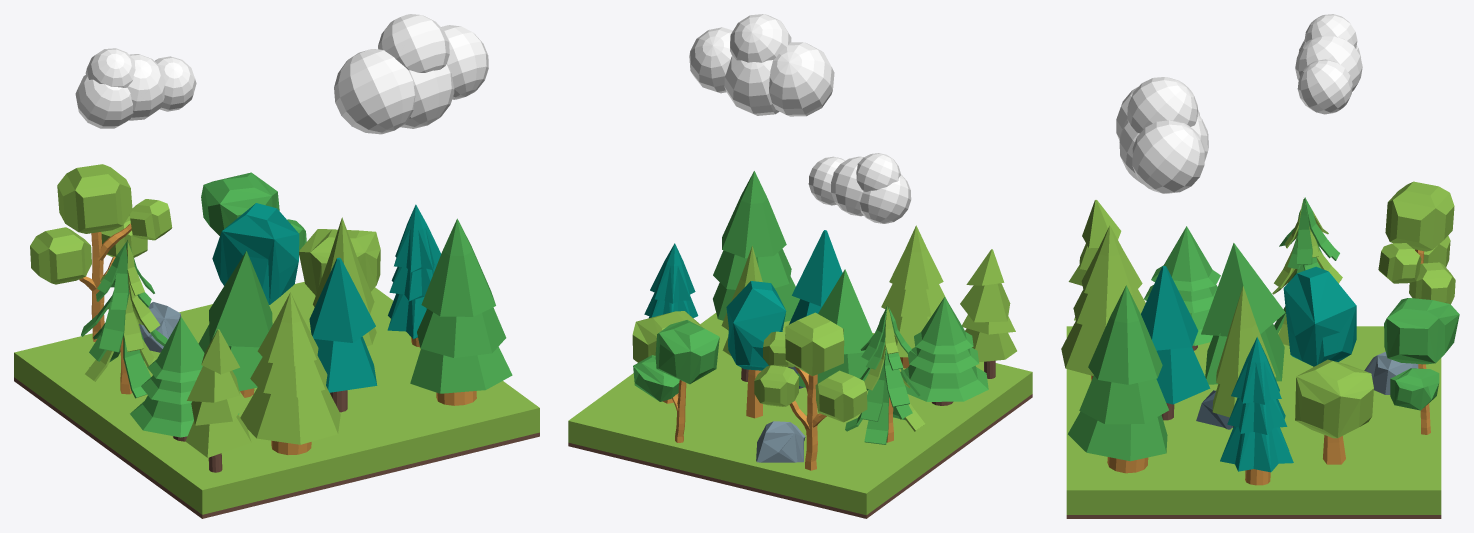
The model's file is arboles.gltf.
3 renders of one model, left to right at view 1: azimuth 30°, elevation 25°; view 2: azimuth 150°, elevation 25°; view 3: azimuth 270°, elevation 25°, orthographic. The views are drawn at different scales.
Parts seen in each view (by area): view 1: group833803046, group1795976569, group720331588, group373735999, group1958235271, group601634601, group874600975, group2112331936, group1206298165, group1610579876, group546125134, group2102696020 (+5 smaller); view 2: group833803046, group1795976569, group373735999, group720331588, group2102696020, group601634601, group874600975, group1114869579, group1206298165, group1958235271, group1610579876, group546125134 (+5 smaller); view 3: group833803046, group720331588, group1795976569, group373735999, group1114869579, group100681590, group1206298165, group1932686607, group1958235271, group2112331936, group601634601, group546125134 (+6 smaller).
Part boxes in pixels (x1,y1,x2,y2): group833803046: (14, 281, 539, 518); group1795976569: (334, 14, 488, 134); group720331588: (410, 218, 512, 405); group373735999: (30, 164, 172, 341); group1958235271: (240, 292, 340, 454); group601634601: (75, 48, 196, 128); group874600975: (81, 240, 167, 398); group2112331936: (309, 257, 377, 412); group1206298165: (212, 203, 299, 304); group1610579876: (185, 329, 251, 472); group546125134: (198, 251, 272, 397); group2102696020: (130, 317, 238, 441); group833803046: (568, 313, 1032, 518); group1795976569: (689, 14, 834, 116); group373735999: (754, 312, 867, 470); group720331588: (713, 171, 799, 321); group2102696020: (900, 297, 988, 405); group601634601: (808, 153, 911, 223); group874600975: (845, 306, 925, 444); group1114869579: (633, 320, 719, 442); group1206298165: (726, 281, 786, 418); group1958235271: (881, 225, 946, 368); group1610579876: (960, 249, 1016, 378); group546125134: (797, 269, 872, 387); group833803046: (1066, 326, 1441, 518); group720331588: (1068, 285, 1168, 473); group1795976569: (1116, 77, 1208, 193); group373735999: (1378, 181, 1455, 304); group1114869579: (1384, 298, 1459, 434); group100681590: (1220, 337, 1293, 485); group1206298165: (1283, 266, 1356, 366); group1932686607: (1295, 359, 1373, 464); group1958235271: (1061, 225, 1145, 380); group2112331936: (1141, 266, 1210, 420); group601634601: (1295, 14, 1362, 114); group546125134: (1201, 243, 1285, 384).
Size of the model in its own units: 0.8954 by 0.9811 by 0.8829.
